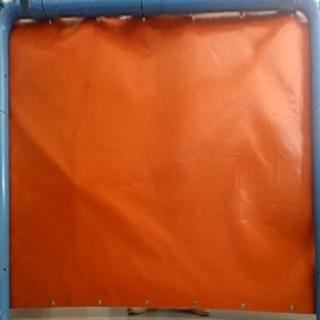Hit-hRxx: (62, 173, 83, 190)
